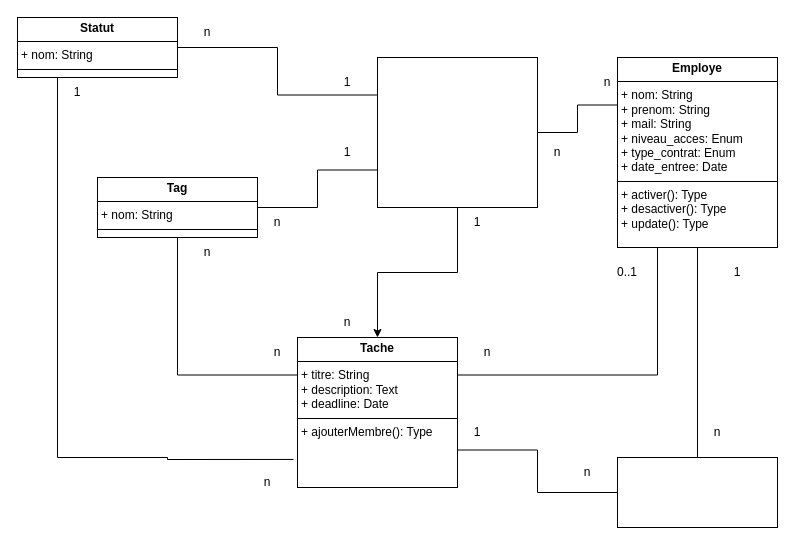
This 795x545 diagram has some shape labels left out. Each missing label, with the centre of its shape:
Creneau + date_debut: Date + date_fin: Date: (697,492)
Projet + nom: String + date_debut: Date + deadline: Date + ajouterMembre(): Type: (457,132)
